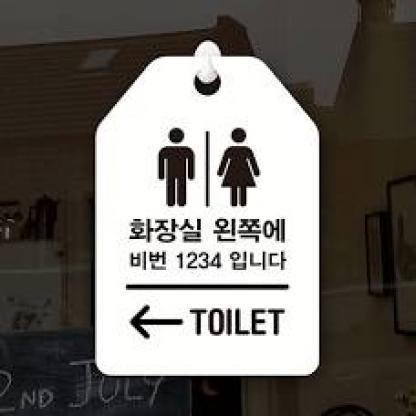toilet: (158, 123, 261, 213)
